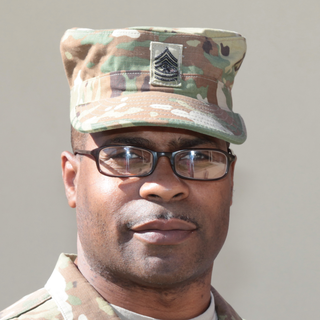eye: (108, 141, 151, 165), (174, 143, 214, 165)
